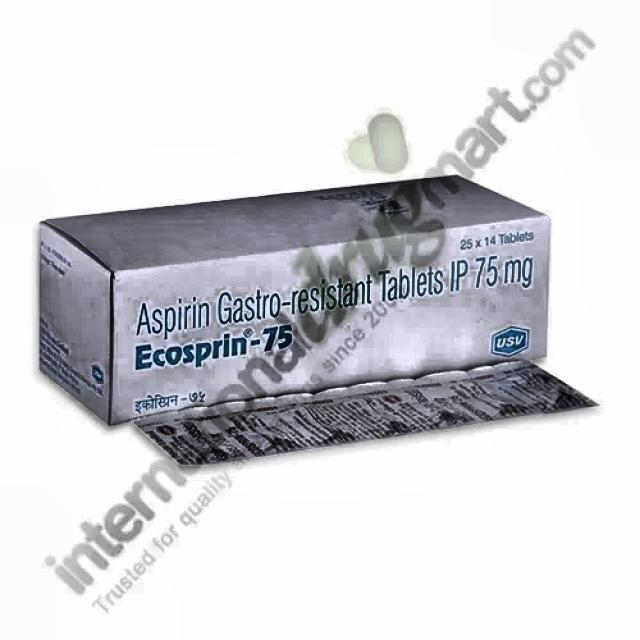Aspirin: (119, 221, 549, 420)
